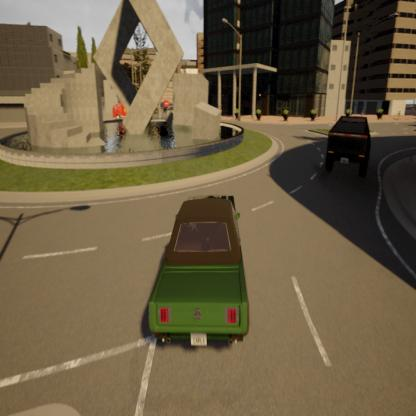Cars: (146, 195, 252, 350), (325, 117, 372, 176)
